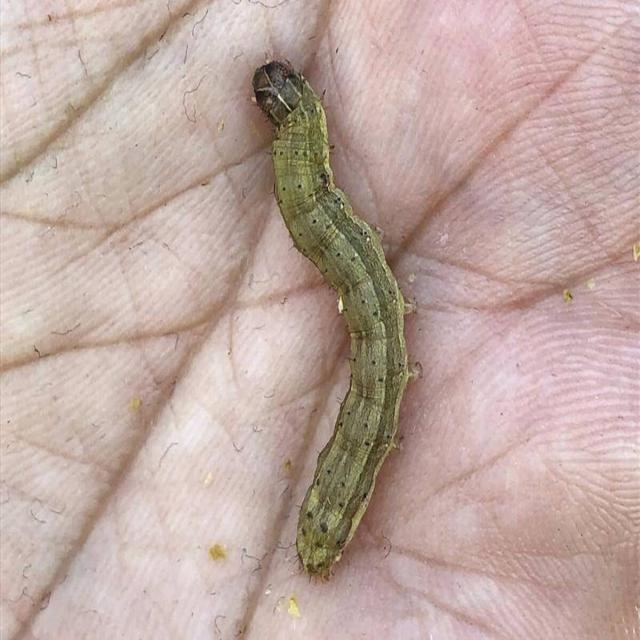armyworm: (226, 37, 421, 609)
